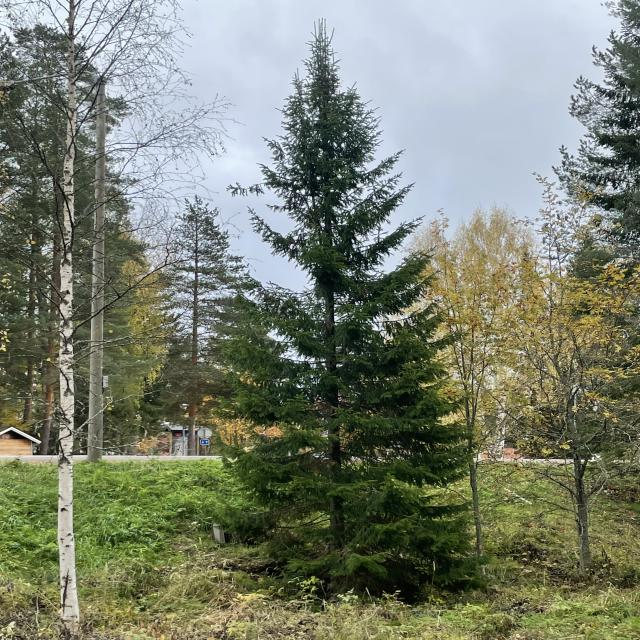spruce: (184, 0, 505, 608), (144, 176, 265, 406), (542, 3, 640, 230)
